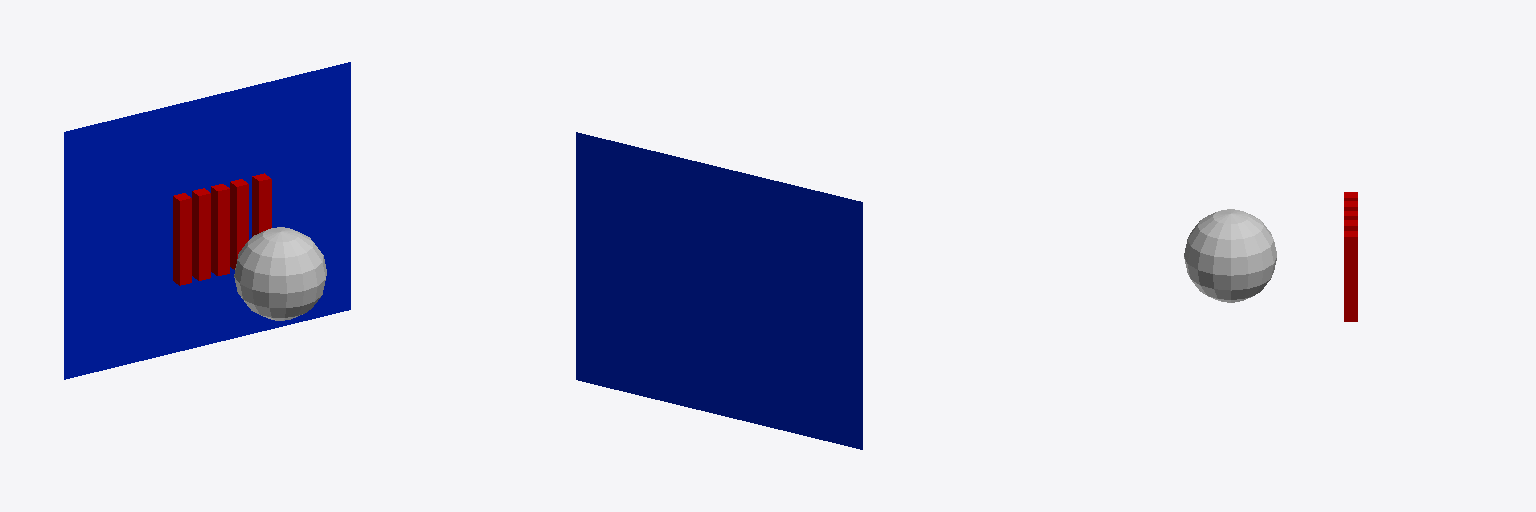
The model's file is refraction.obj.
The picture shows the model from 3 angles: view 1: azimuth 30°, elevation 25°; view 2: azimuth 150°, elevation 25°; view 3: azimuth 270°, elevation 25°; orthographic projection.
Parts seen in each view (by area): view 1: Plane, Sphere, Cube.3, Cube.4, Cube, Cube.1, Cube.2; view 2: Plane; view 3: Sphere, Cube.2.
Boxes of the visible parts, <box> form: Plane: <box>64,62,350,379</box>; Sphere: <box>234,227,326,320</box>; Cube.3: <box>192,188,210,280</box>; Cube.4: <box>173,193,191,285</box>; Cube: <box>211,184,229,275</box>; Cube.1: <box>230,179,248,269</box>; Cube.2: <box>252,173,271,236</box>; Plane: <box>576,132,862,449</box>; Sphere: <box>1184,209,1276,302</box>; Cube.2: <box>1344,231,1357,321</box>.
Bounding box in the file's own units: 3.54 × 2.92 × 2.05.